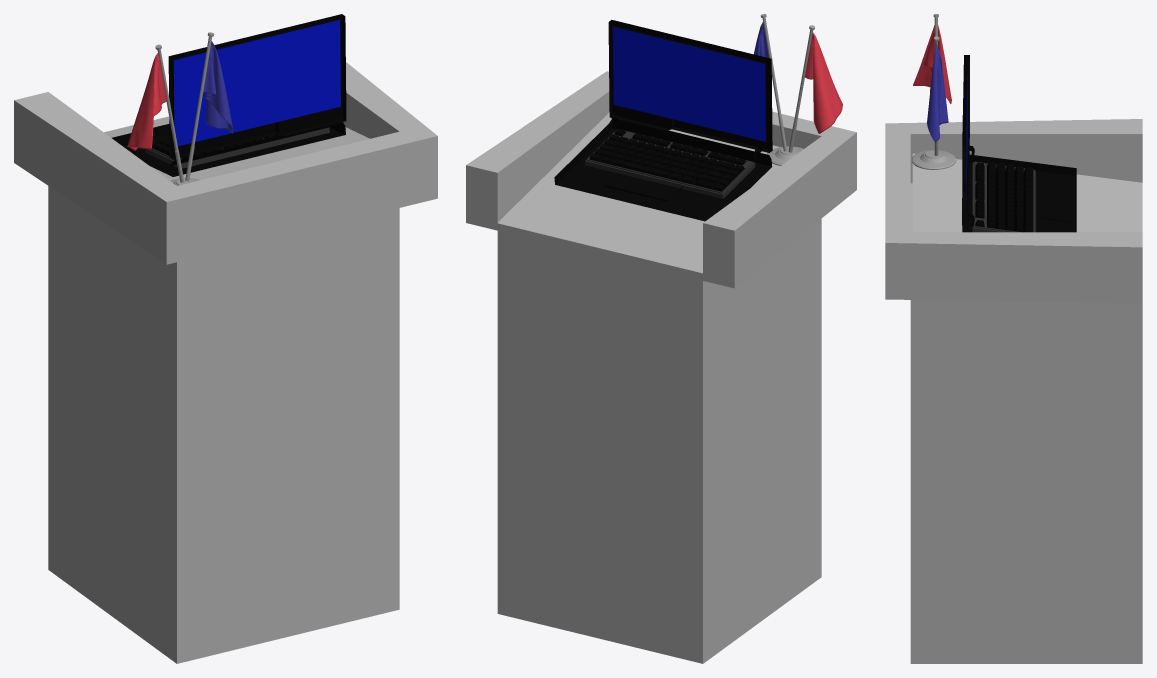
The model's file is sahne1.fbx.
3 renders of one model, left to right at view 1: azimuth 30°, elevation 25°; view 2: azimuth 150°, elevation 25°; view 3: azimuth 270°, elevation 25°, orthographic. The views are drawn at different scales.
Parts seen in each view (by area): view 1: Plane.001; view 2: Plane.001; view 3: Plane.001.
Boxes of the visible parts, x1,y1,x2,y2 form: Plane.001: (14,14,437,663); Plane.001: (466,14,856,663); Plane.001: (885,14,1142,663).
Size of the model in its own units: 262 by 522 by 222.
